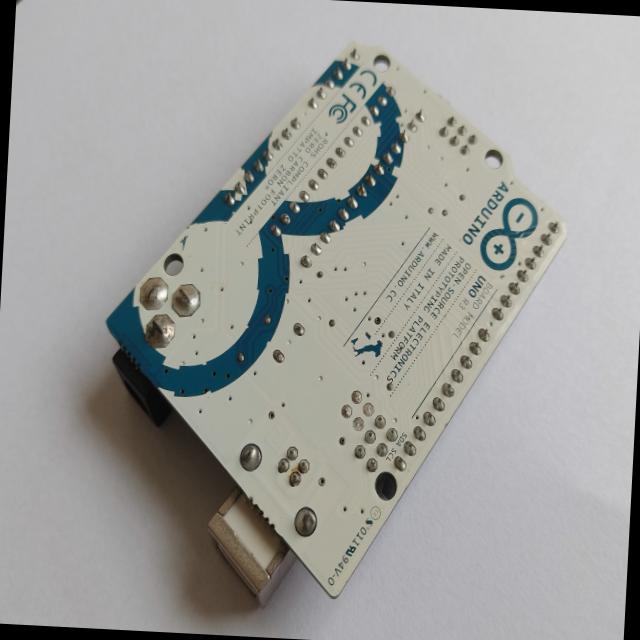arduino: (70, 11, 581, 634)
